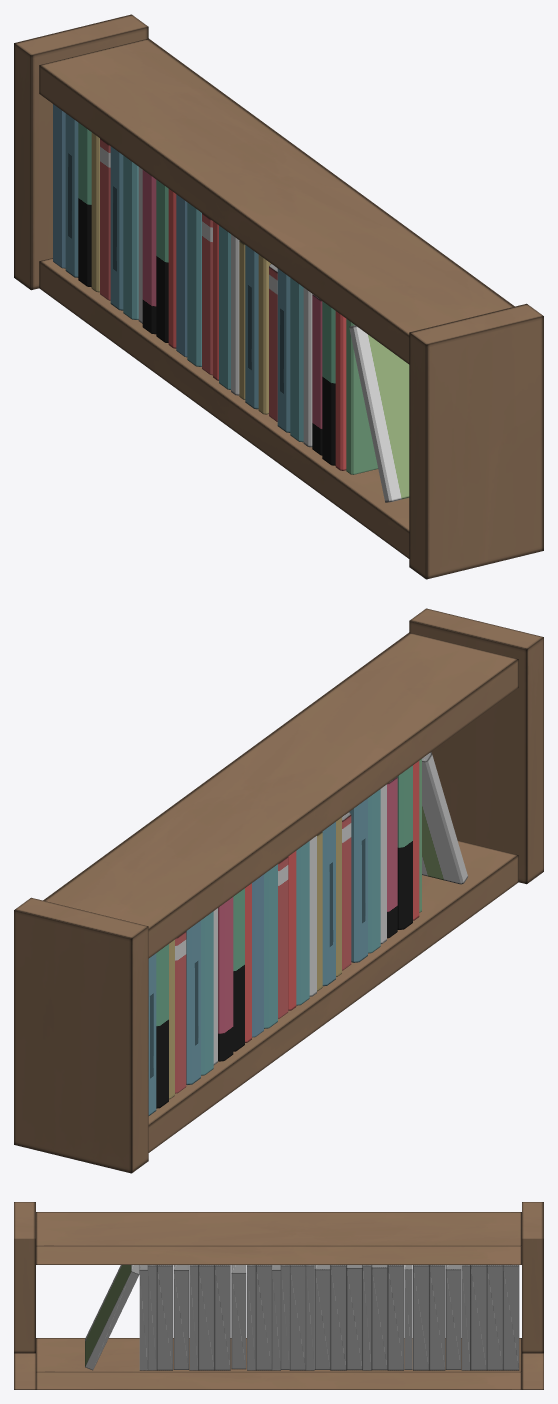
File: shelf2_books.fbx
The picture shows the model from 3 angles, top to bottom: view 1: azimuth 30°, elevation 25°; view 2: azimuth 150°, elevation 25°; view 3: azimuth 270°, elevation 25°; orthographic projection. The views are drawn at different scales.
Visible parts, largest first — view 1: polySurface1654; view 2: polySurface1654; view 3: polySurface1654.
Part boxes in pixels (bbox=[...]): polySurface1654: bbox=[14, 14, 543, 579]; polySurface1654: bbox=[14, 608, 543, 1173]; polySurface1654: bbox=[14, 1202, 543, 1389].
Size of the model in its own units: 0.269 by 0.5123 by 1.63.
